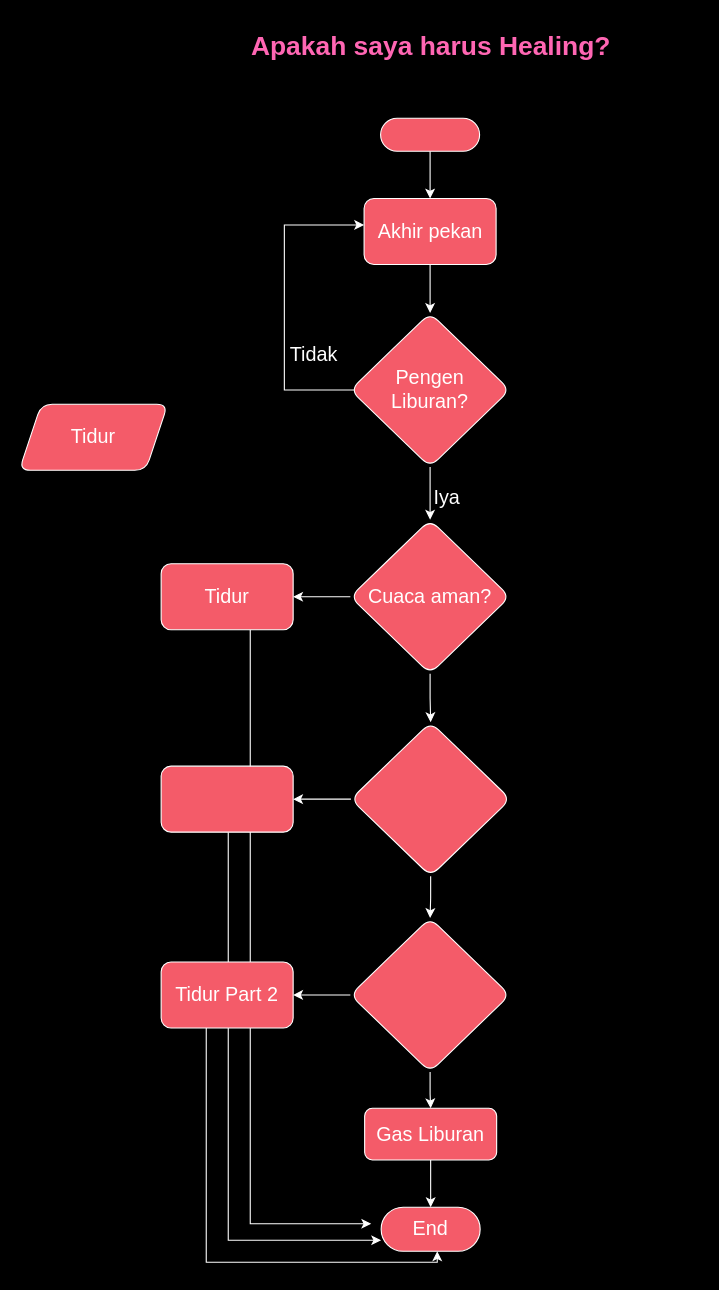
This 719x1290 diagram has some shape labels left out. The shapes that lost their labels are listed below. From the top down, each one's centre as x and y in pixels, then its label:
(430,134): Start
(226,798): Ada kegiatan lain
(430,798): Jadwal aman?
(429,994): Mood aman?
